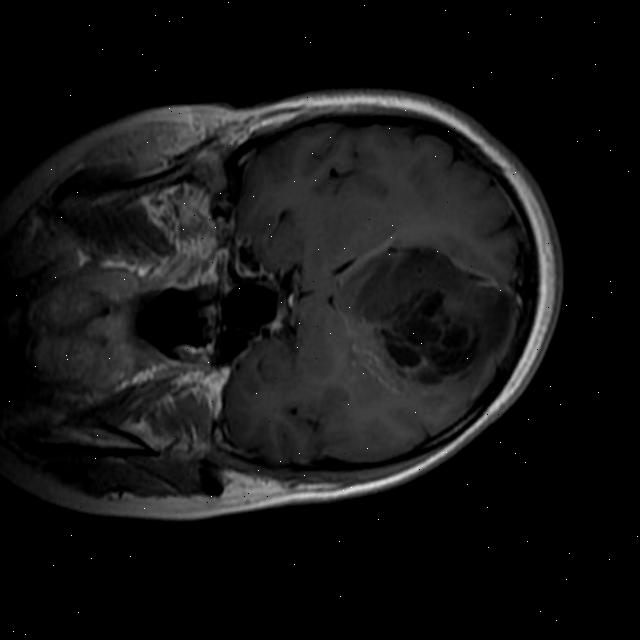Glioma: (322, 221, 538, 407)
